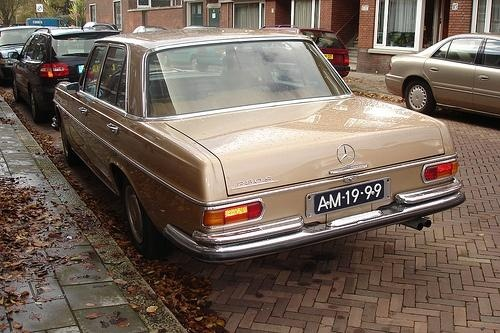car: (53, 27, 469, 266), (15, 25, 126, 123), (385, 33, 500, 123), (295, 29, 353, 85), (1, 25, 50, 86)
